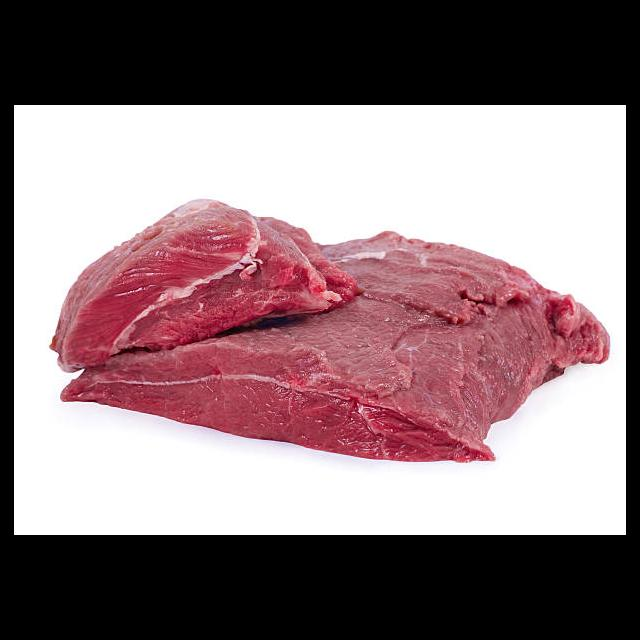beef: (49, 197, 613, 465)
